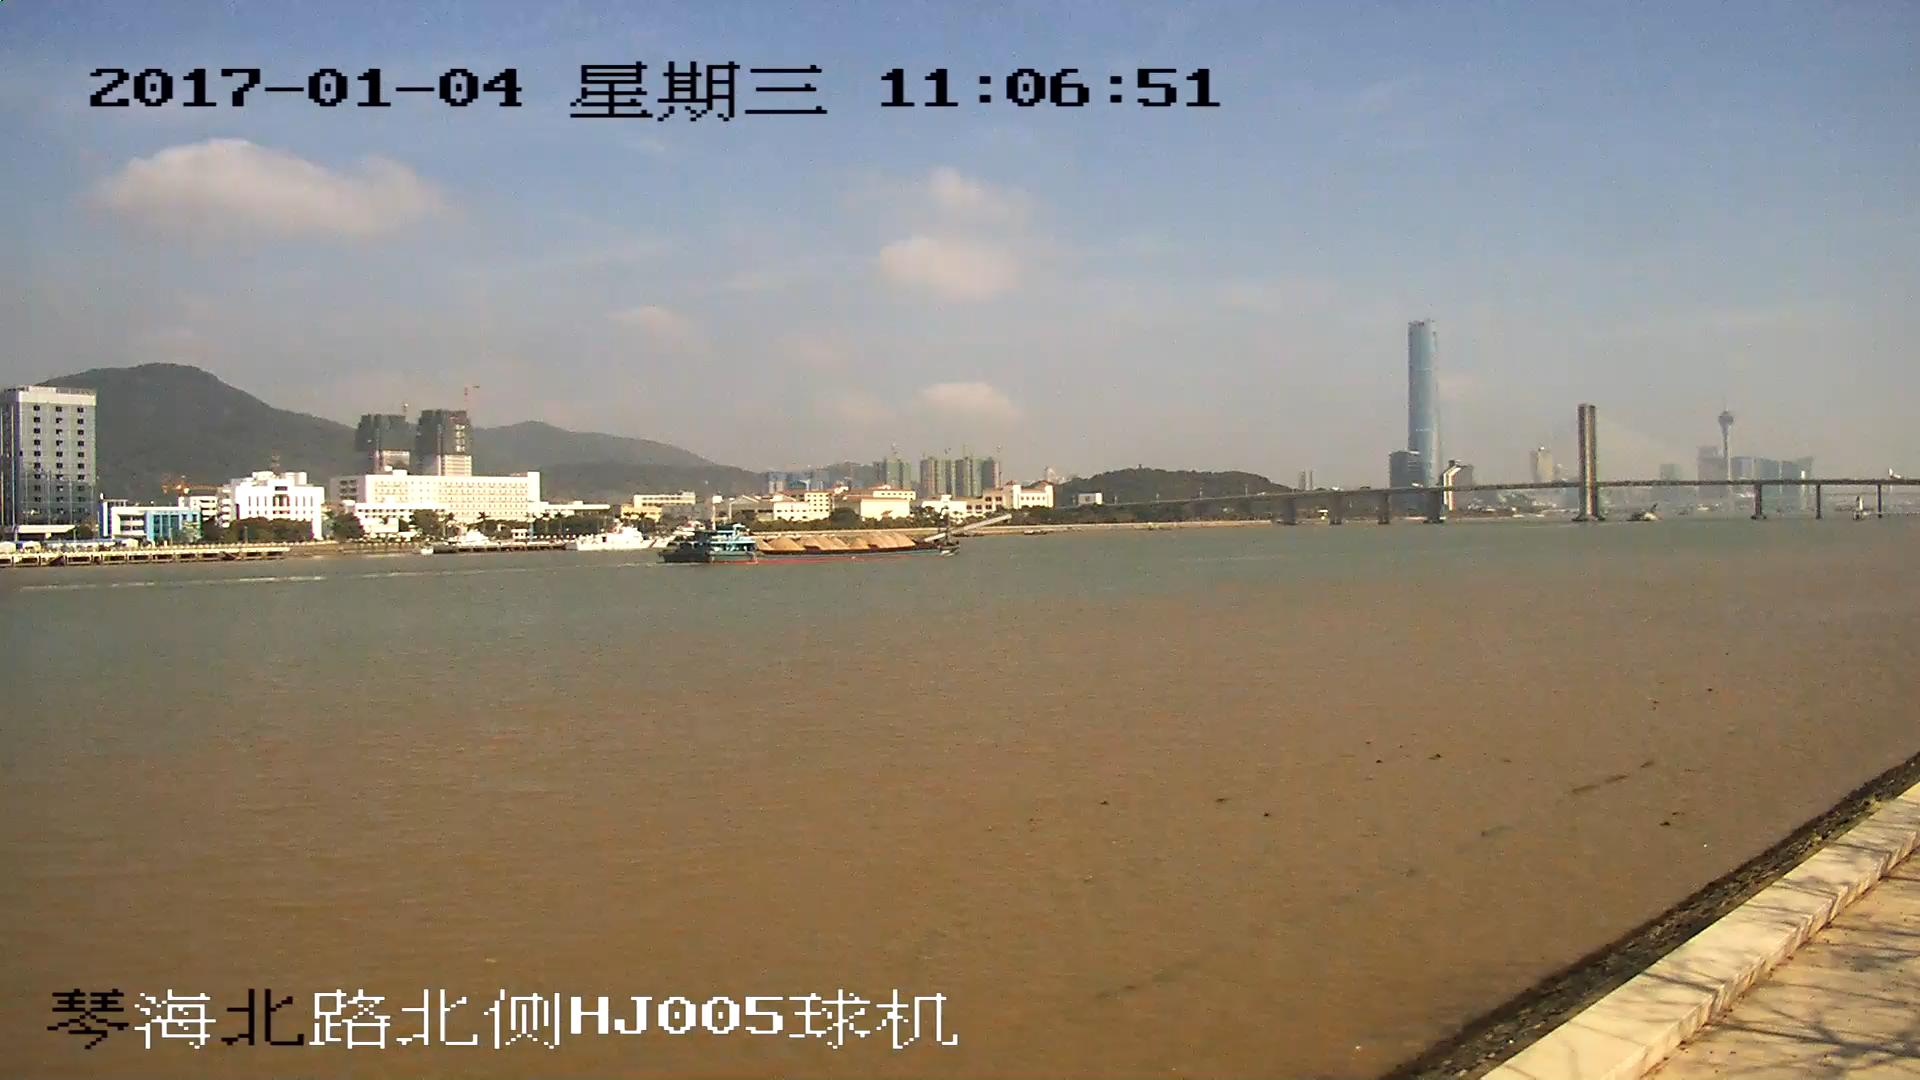ore carrier: (665, 515, 1006, 566)
